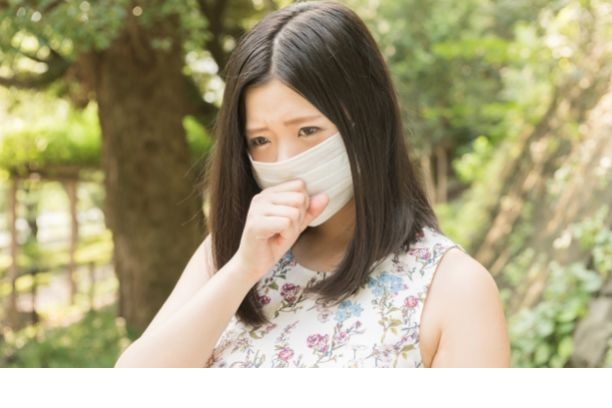mask: (232, 86, 361, 230)
